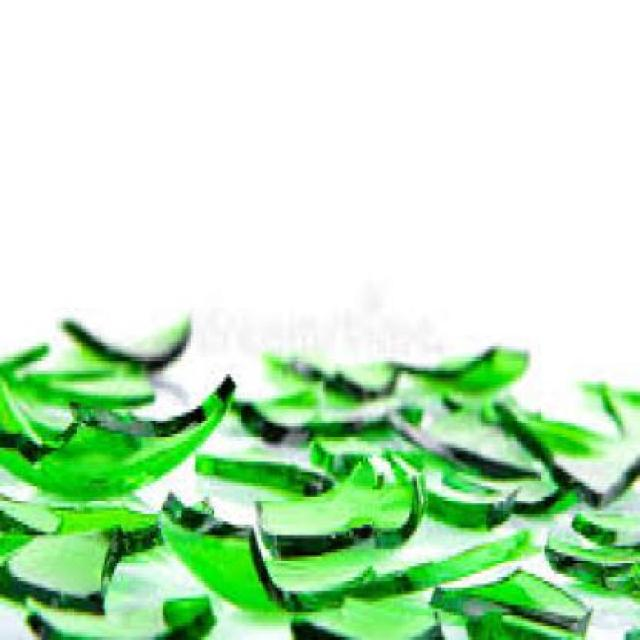GLASS: (152, 486, 528, 612), (0, 378, 231, 493), (310, 417, 512, 528), (380, 399, 554, 510), (250, 451, 422, 546), (488, 392, 638, 500), (433, 563, 587, 637), (0, 343, 152, 410), (19, 584, 212, 636), (0, 493, 158, 553), (0, 532, 123, 608), (230, 388, 415, 437), (372, 339, 523, 392), (261, 343, 396, 399), (286, 588, 436, 637), (538, 524, 638, 590), (186, 447, 326, 493), (61, 314, 188, 360), (461, 605, 582, 637), (560, 500, 638, 549), (572, 375, 638, 430), (614, 615, 638, 637)
